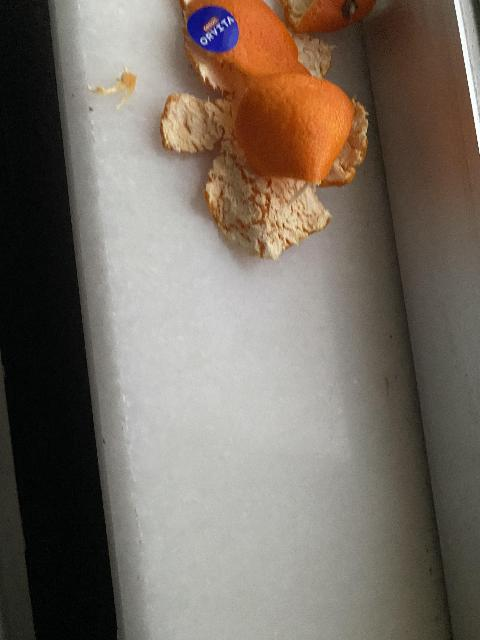Organik: (254, 79, 346, 189), (213, 160, 327, 246), (243, 0, 332, 95), (160, 94, 246, 149), (281, 0, 381, 38), (344, 102, 368, 176), (90, 75, 141, 108)
Plastik: (195, 14, 233, 46)
